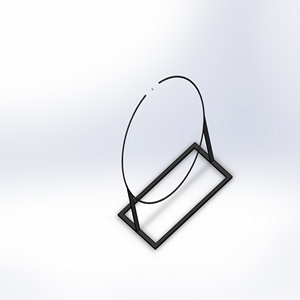circle: (114, 74, 233, 249)
